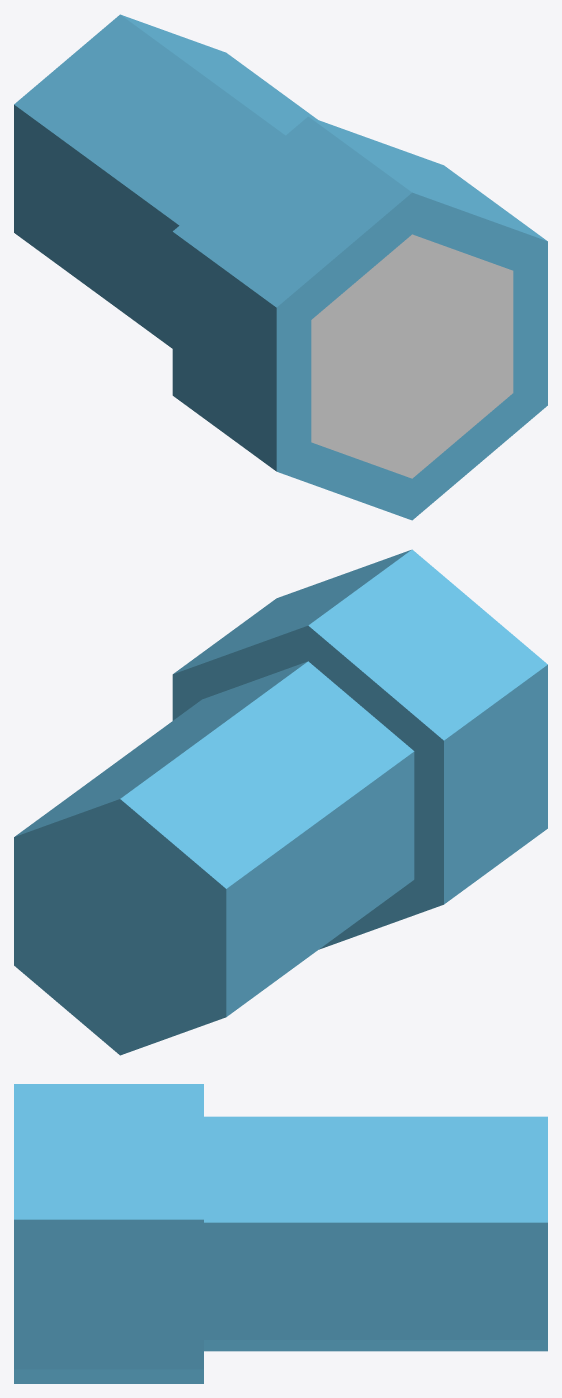
The model's file is lantern.glb.
3 views of the same model, one above another, from view 1: azimuth 30°, elevation 25°; view 2: azimuth 150°, elevation 25°; view 3: azimuth 270°, elevation 25° (orthographic). The views are drawn at different scales.
Visible parts, largest first — view 1: Cylinder; view 2: Cylinder; view 3: Cylinder.
Boxes of the visible parts, x1,y1,x2,y2 form: Cylinder: (14,14,547,520); Cylinder: (14,549,547,1055); Cylinder: (14,1084,547,1383).
Bounding box in the file's own units: 0.1414 × 0.1633 × 0.2636.
